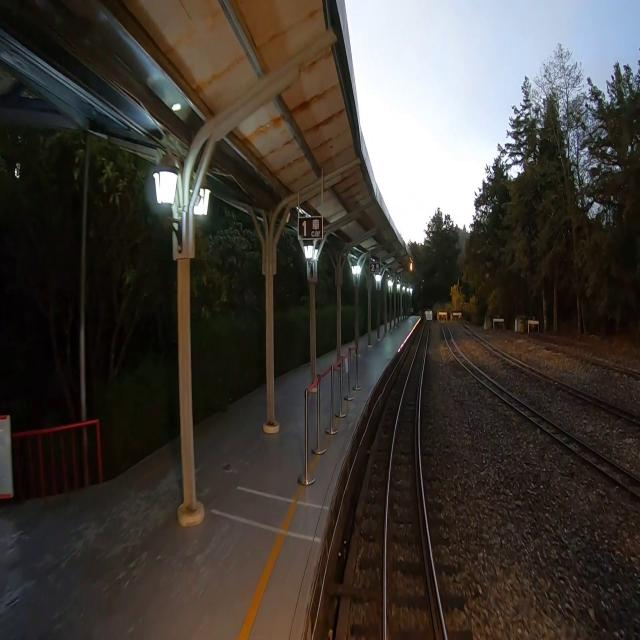rail-track: (442, 321, 640, 491), (389, 324, 444, 639)
